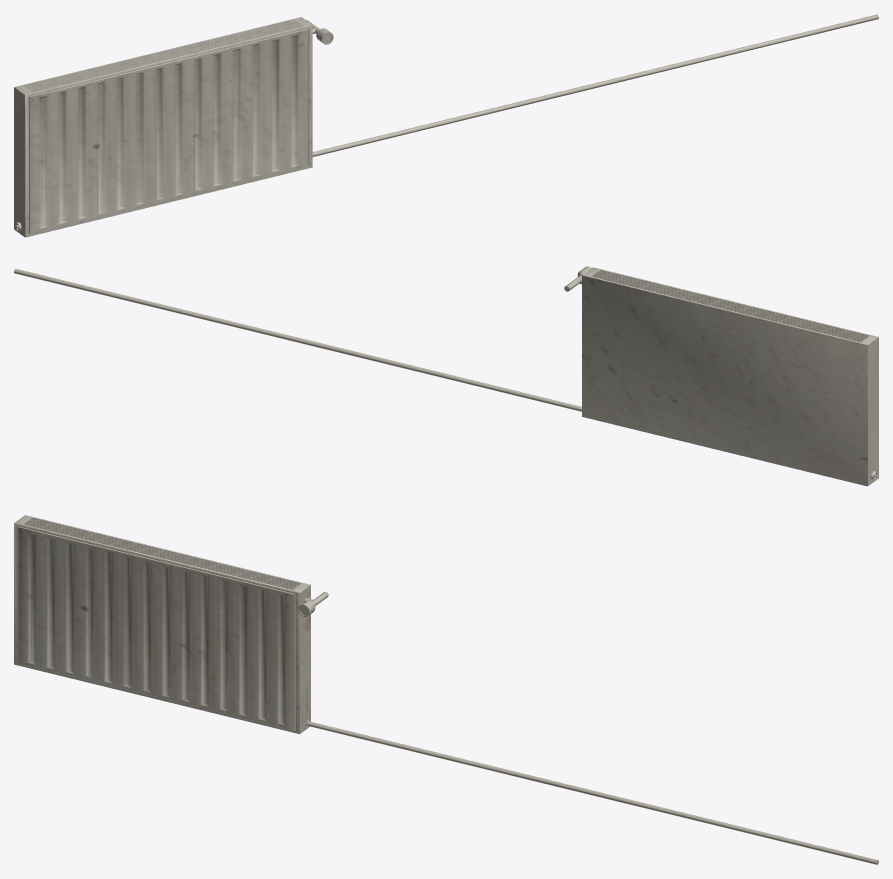
Rendered from Radiator.FBX.
3 renders of one model, top to bottom at view 1: azimuth 30°, elevation 25°; view 2: azimuth 150°, elevation 25°; view 3: azimuth 330°, elevation 25°, orthographic.
Visible parts, largest first — view 1: radiator; view 2: radiator; view 3: radiator.
Boxes of the visible parts, box(x1,y1,x2,y2) form: radiator: box(14, 14, 878, 237); radiator: box(14, 266, 878, 486); radiator: box(14, 515, 878, 864).
Bounding box in the file's own units: 444 × 69.95 × 19.88.
